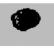correct: (8, 7, 44, 33)
